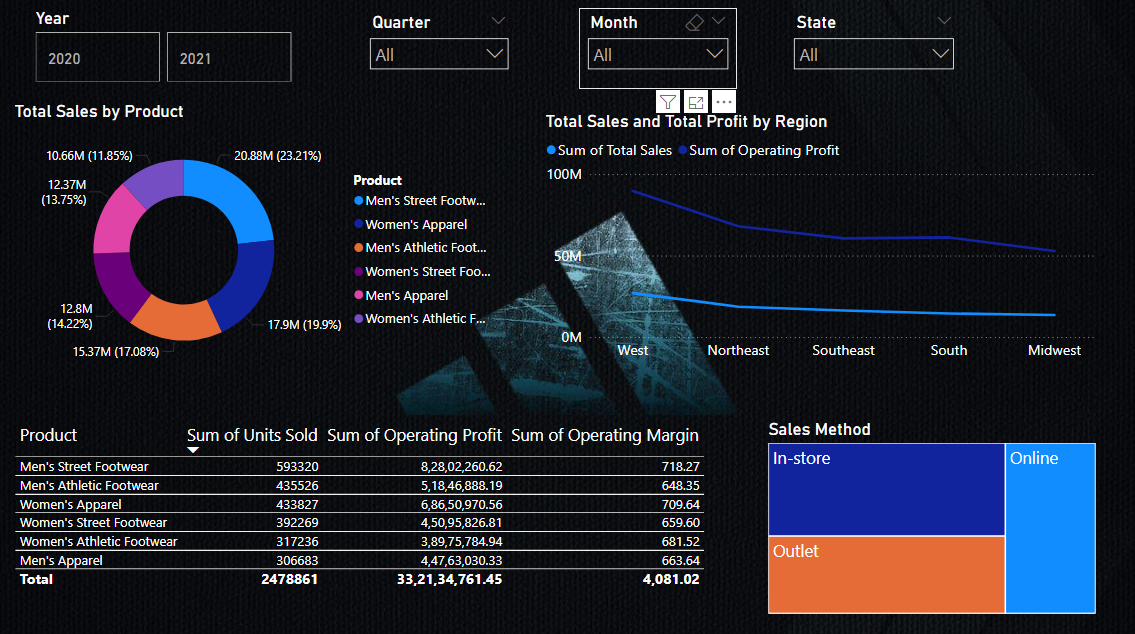

This screenshot's page, from the dashboard's own definition file:
{"tool":"powerbi","page":{"name":"Product & Sales","canvas":[1280,720],"ordinal":3},"visuals":[{"type":"lineChart","title":"Total Sales and Total Profit by Region","fields":{"Y":["Sum(Data Sales Adidas.Total Sales)","Sum(Data Sales Adidas.Operating Profit)"],"Category":["Data Sales Adidas.Region"]},"box":[609.5,131,630,289.4],"z":0},{"type":"donutChart","title":"Total Sales by Product","fields":{"Y":["Sum(Data Sales Adidas.Total Sales)"],"Category":["Data Sales Adidas.Product"]},"box":[12.9,119.5,555.2,313.6],"z":1000},{"type":"slicer","fields":{"Values":["Data Sales Adidas.State"]},"box":[884.2,14.6,200.2,88.9],"z":2000},{"type":"slicer","fields":{"Values":["Data Sales Adidas.Invoice Date.Variation.Date Hierarchy.Quarter"]},"box":[407.2,14.6,175.5,97.9],"z":3000},{"type":"slicer","fields":{"Values":["Data Sales Adidas.Invoice Date.Variation.Date Hierarchy.Month"]},"box":[652.5,14.6,177.8,91.1],"z":4000},{"type":"advancedSlicerVisual","fields":{"Values":["Data Sales Adidas.Invoice Date.Variation.Date Hierarchy.Year"]},"box":[36,14.6,299.2,88.9],"z":5000},{"type":"tableEx","fields":{"Values":["Data Sales Adidas.Product","Sum(Data Sales Adidas.Units Sold)","Sum(Data Sales Adidas.Operating Profit)","Sum(Data Sales Adidas.Operating Margin)"]},"box":[12.9,476.8,787.8,210.8],"z":6000},{"type":"treemap","title":"Sales Method","fields":{"Values":["Sum(Data Sales Adidas.Total Sales)"],"Group":["Data Sales Adidas.Sales Method"]},"box":[861,476.8,377.8,223.6],"z":7000}]}

Visuals, with their boxes in screenshot pixels (x1, y1, x2, y2), scaled from the page's 1280x720 canvas onto the 1135x634 screenshot:
"Total Sales and Total Profit by Region" lineChart: [540,115,1099,370]
"Total Sales by Product" donutChart: [11,105,504,381]
slicer - Data Sales Adidas.State: [784,13,962,91]
slicer - Data Sales Adidas.Invoice Date.Variation.Date Hierarchy.Quarter: [361,13,517,99]
slicer - Data Sales Adidas.Invoice Date.Variation.Date Hierarchy.Month: [579,13,736,93]
advancedSlicerVisual - Data Sales Adidas.Invoice Date.Variation.Date Hierarchy.Year: [32,13,297,91]
tableEx - Data Sales Adidas.Product x Sum(Data Sales Adidas.Units Sold): [11,420,710,605]
"Sales Method" treemap: [763,420,1098,617]
